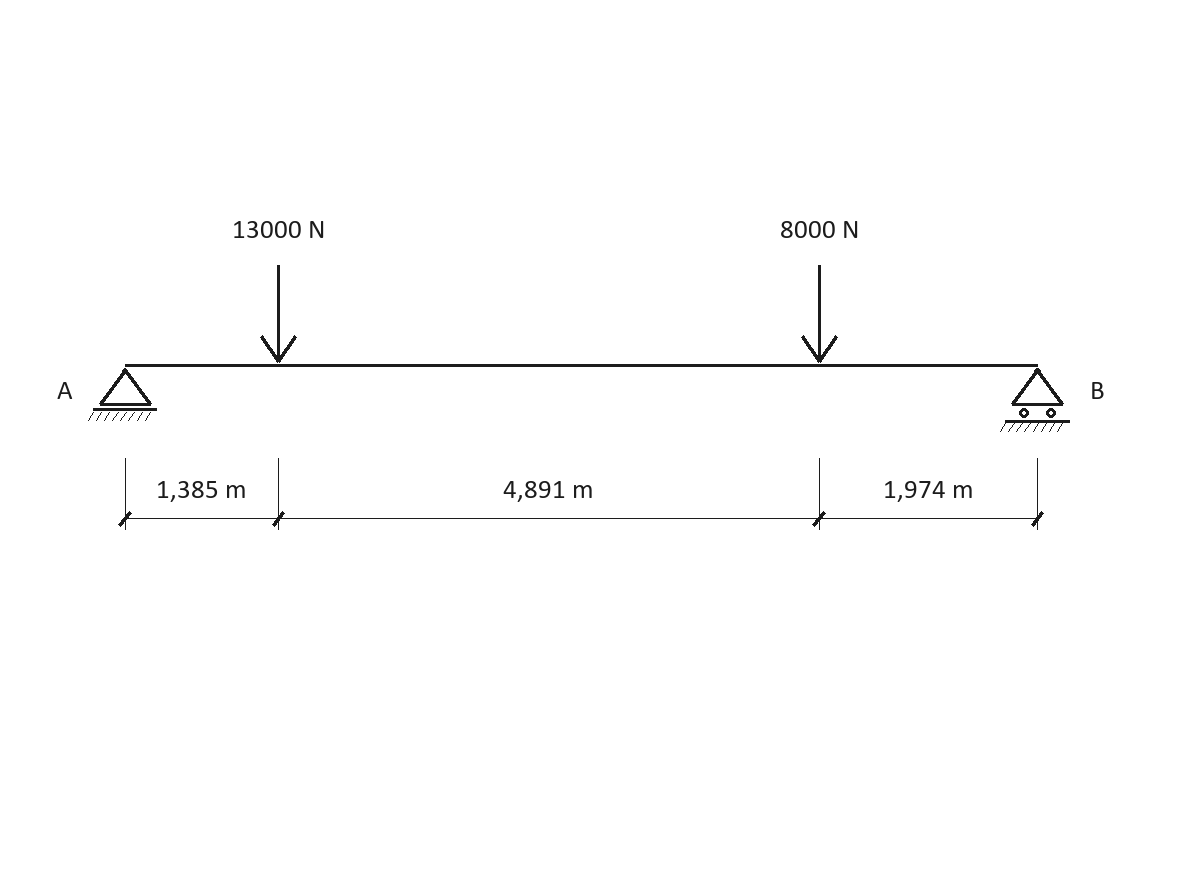pin_support: (88, 368, 157, 421)
point_load: (260, 265, 297, 363), (801, 265, 838, 363)
roller_support: (1000, 368, 1070, 432)
